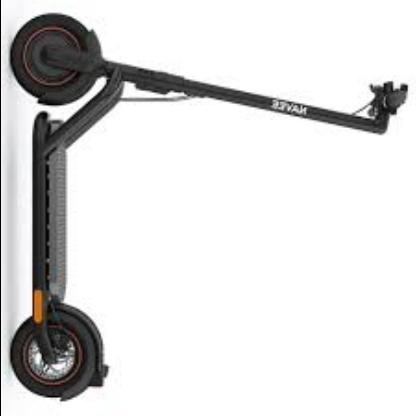bike: (9, 14, 415, 407)
